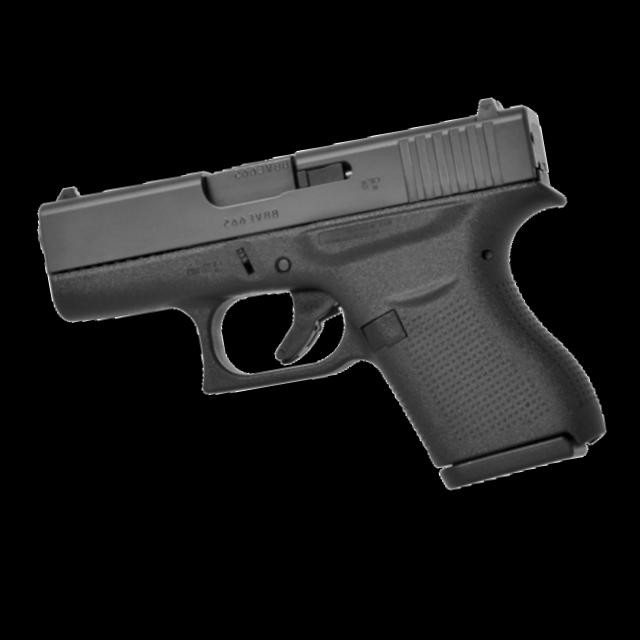Weapon: (20, 84, 634, 554)
